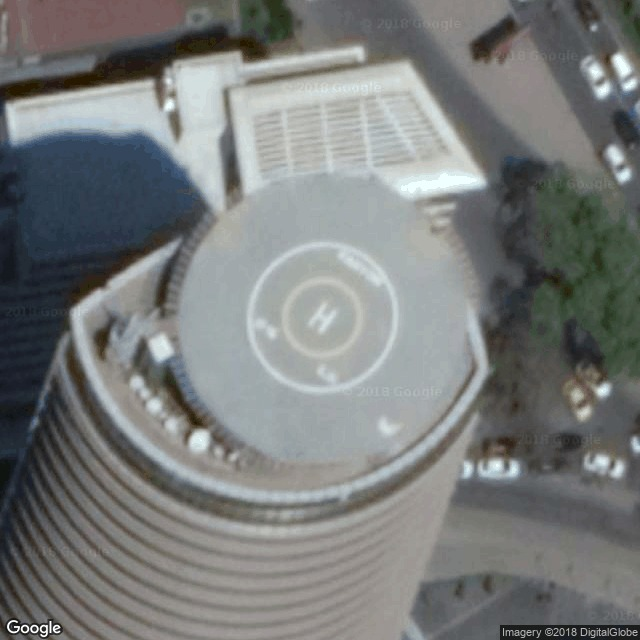heliport: (304, 294, 343, 340)
